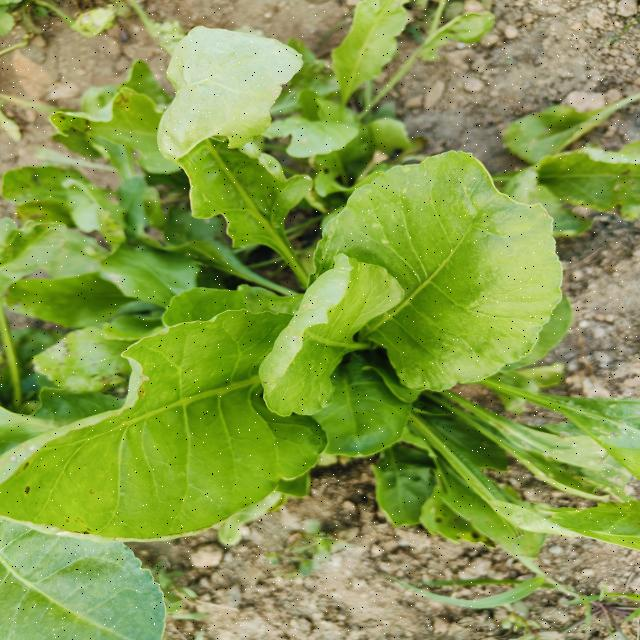leaves: (291, 130, 575, 457), (16, 317, 385, 545), (118, 22, 355, 358), (258, 230, 426, 450)
